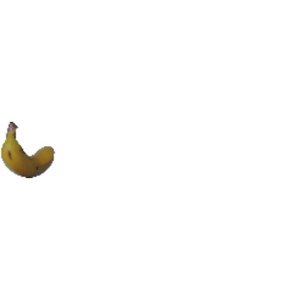banana: (2, 117, 57, 181)
